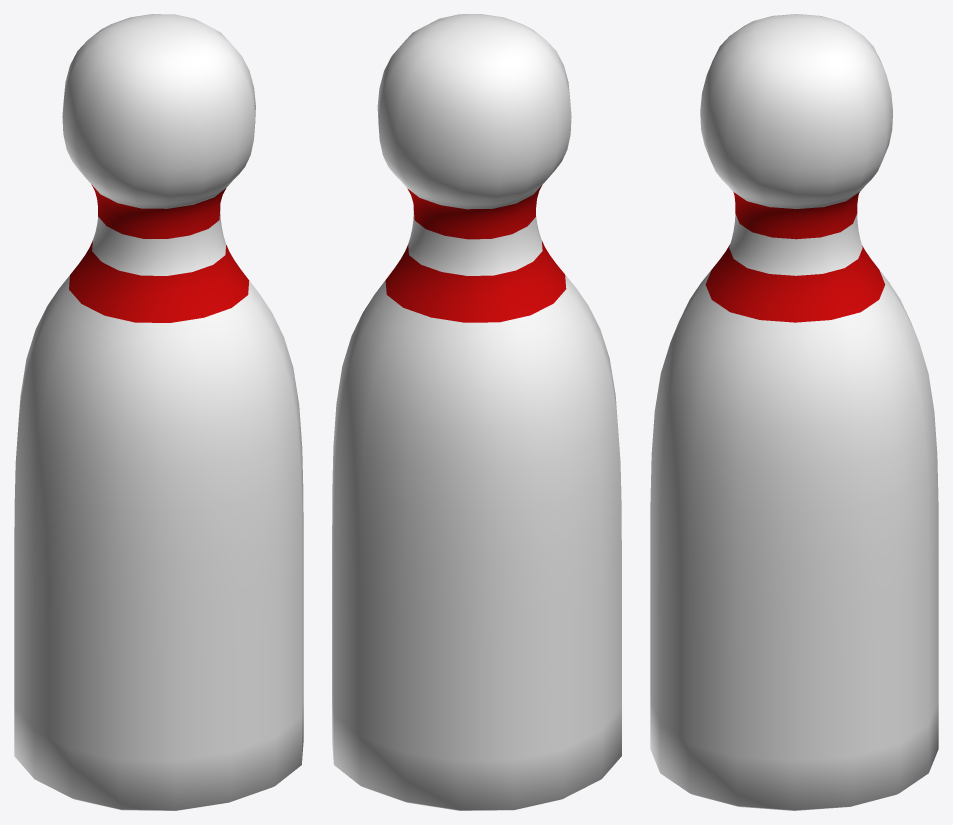
File: kägla.fbx
3 renders of one model, left to right at view 1: azimuth 30°, elevation 25°; view 2: azimuth 150°, elevation 25°; view 3: azimuth 270°, elevation 25°, orthographic.
Parts seen in each view (by area): view 1: Plane.006; view 2: Plane.006; view 3: Plane.006.
Boxes of the visible parts, x1,y1,x2,y2 form: Plane.006: (14,14,303,810); Plane.006: (332,14,621,810); Plane.006: (650,14,938,810).
Size of the model in its own units: 110 by 309 by 110.
